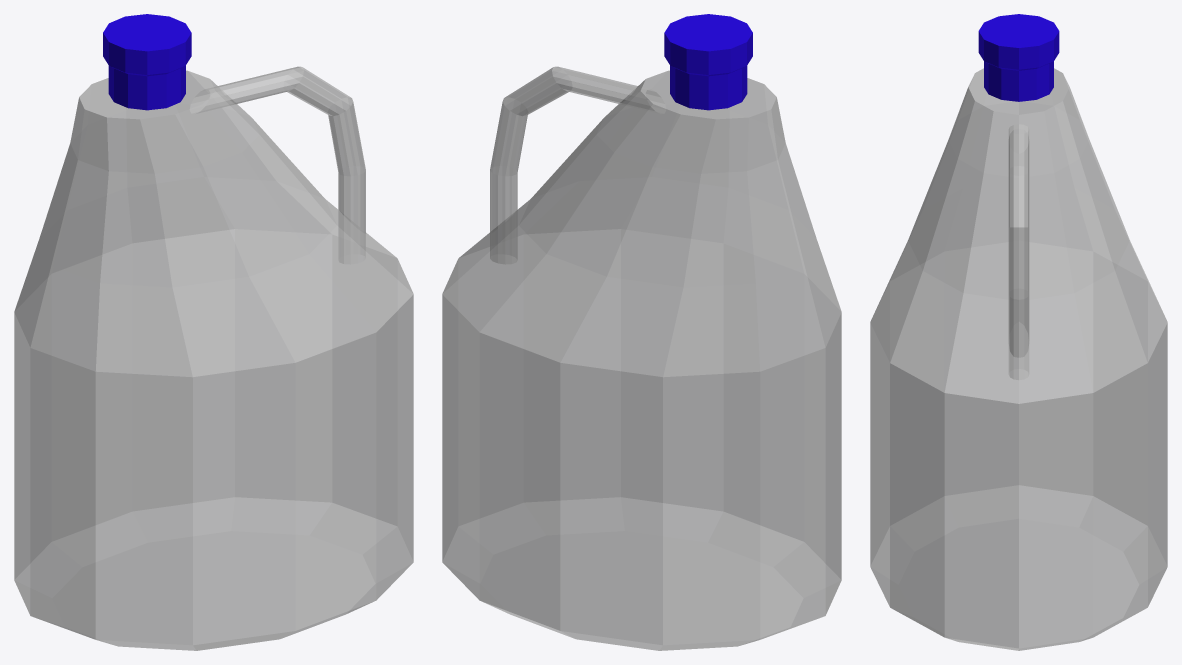
File: PlasticBottle.fbx
3 views of the same model, side by side, from view 1: azimuth 30°, elevation 25°; view 2: azimuth 150°, elevation 25°; view 3: azimuth 270°, elevation 25° (orthographic). The views are drawn at different scales.
Parts seen in each view (by area): view 1: Circle.001; view 2: Circle.001; view 3: Circle.001.
Boxes of the visible parts, x1=… form: Circle.001: x1=14, y1=14, x2=413, y2=650; Circle.001: x1=442, y1=14, x2=841, y2=650; Circle.001: x1=870, y1=14, x2=1167, y2=650.
Bounding box in the file's own units: 247 × 370 × 190.
